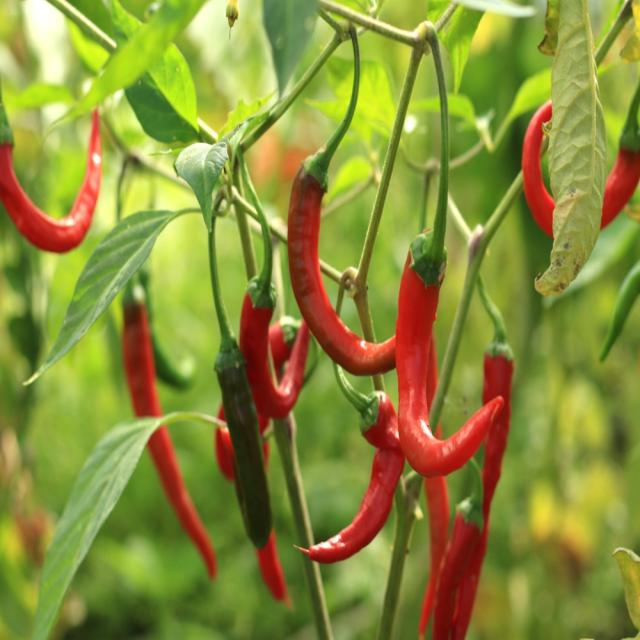Ripe: (396, 255, 504, 478), (288, 165, 396, 375), (451, 350, 514, 639), (305, 394, 406, 566), (0, 111, 101, 252), (432, 459, 484, 638), (239, 293, 308, 420), (522, 101, 555, 235), (600, 148, 640, 228)
Unripe: (215, 339, 271, 548)
